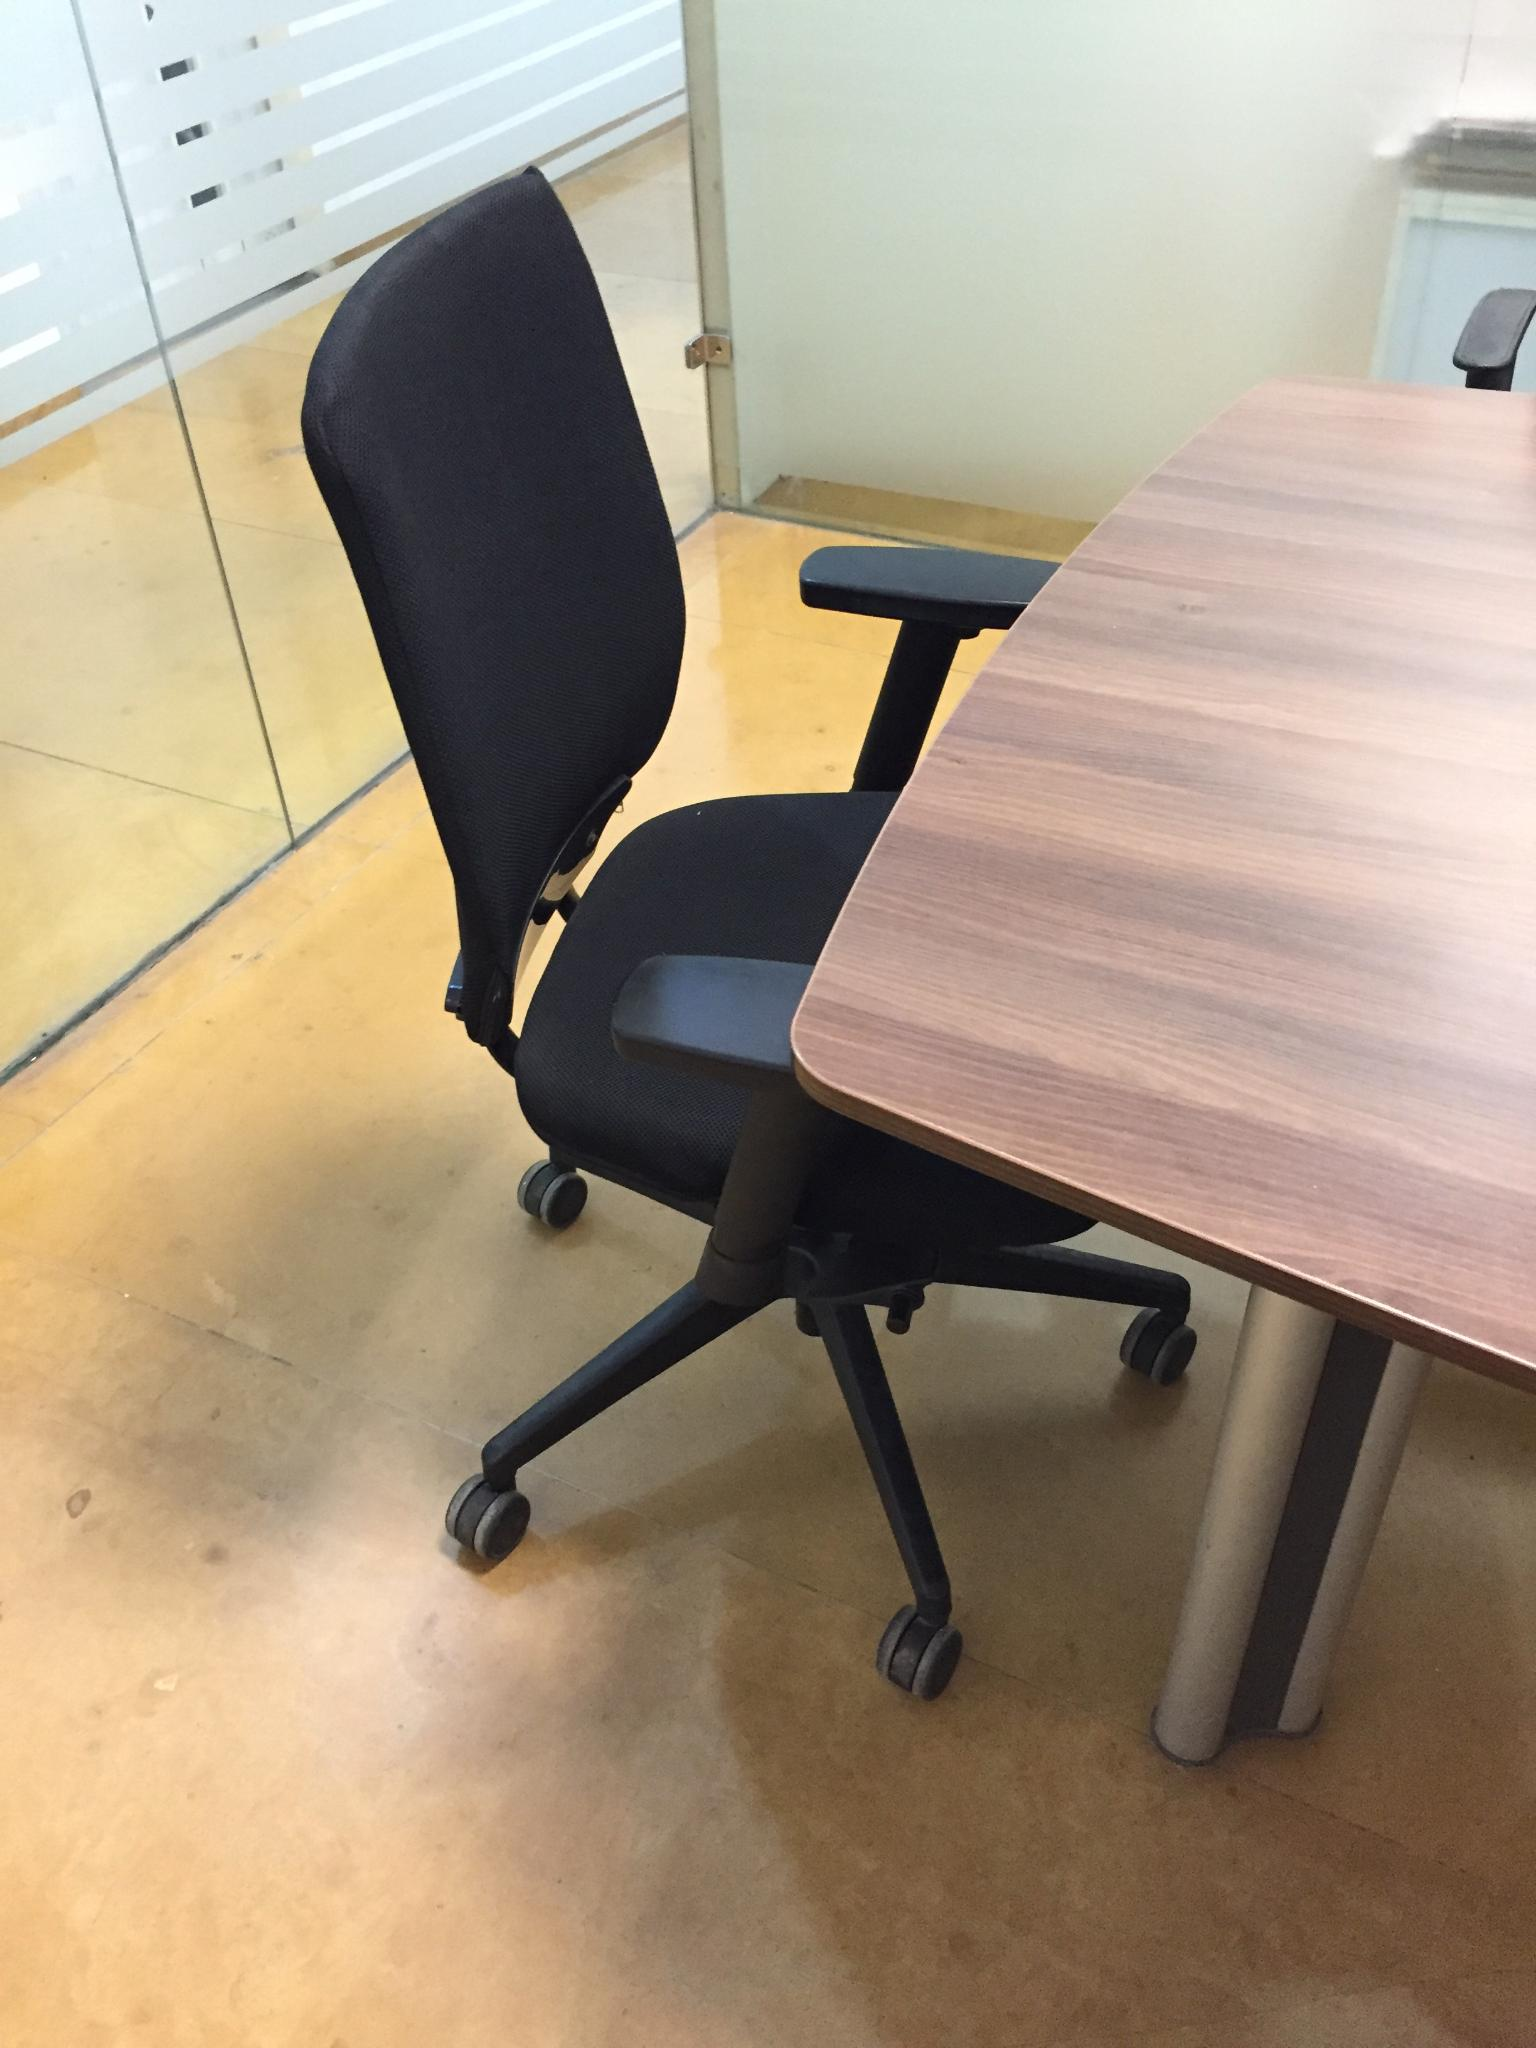chair: (297, 161, 1199, 1701)
